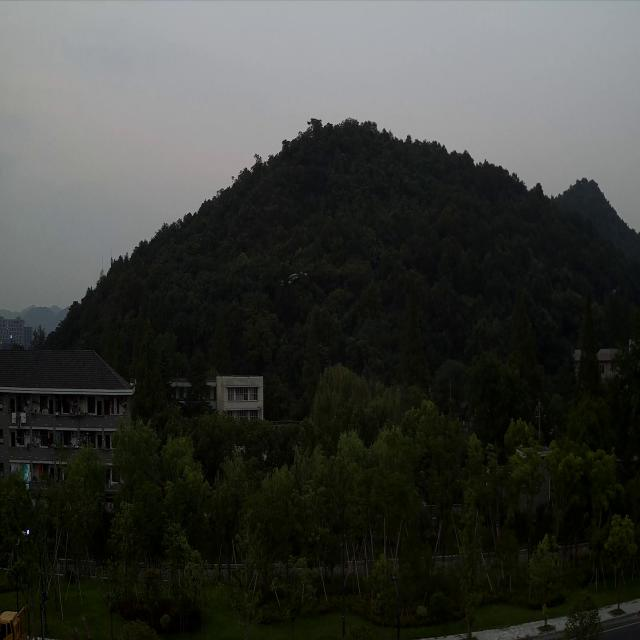drone: (279, 268, 308, 286)
